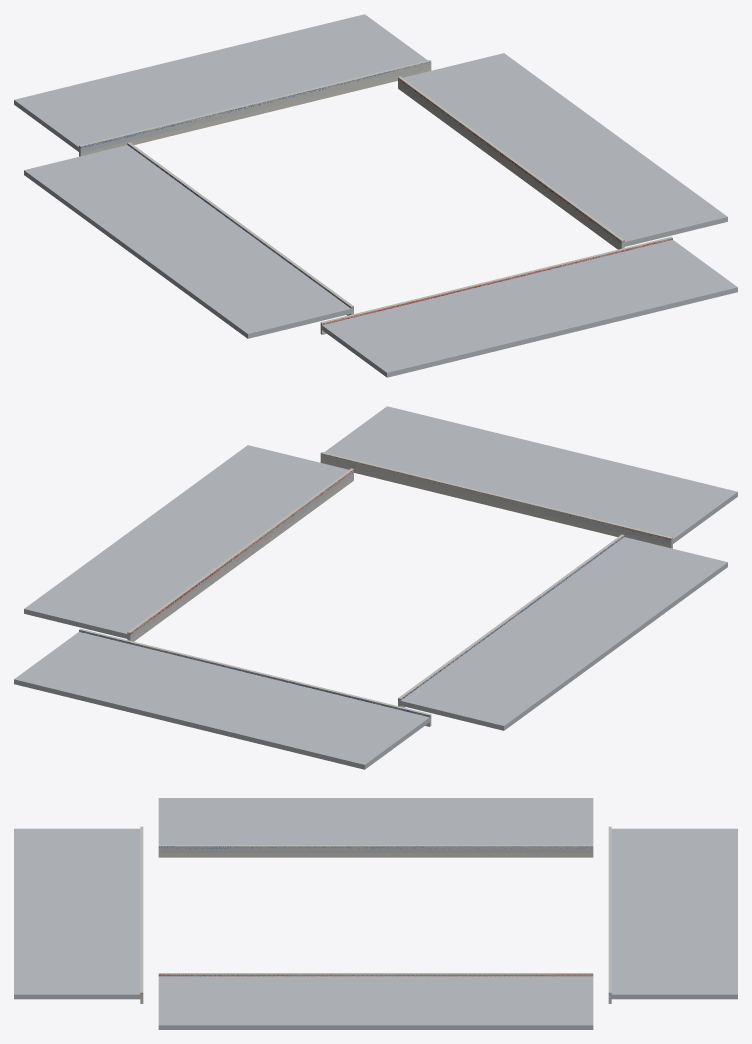
The model's file is Cubierta.obj.
3 renders of one model, top to bottom at view 1: azimuth 30°, elevation 25°; view 2: azimuth 150°, elevation 25°; view 3: azimuth 270°, elevation 25°, orthographic. The views are drawn at different scales.
Parts seen in each view (by area): view 1: Cubierta; view 2: Cubierta; view 3: Cubierta.
Part boxes in pixels (left/top/right/bottom): Cubierta: left=14, top=14, right=737, bottom=377; Cubierta: left=14, top=406, right=737, bottom=769; Cubierta: left=14, top=798, right=737, bottom=1029.
Size of the model in its own units: 52 by 1.2 by 70.
Materials: 1 (1 with a texture image).
